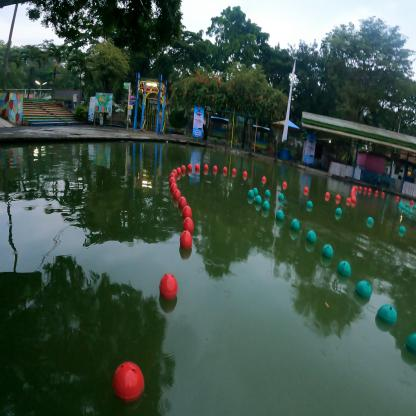green_buoy: (377, 300, 397, 326), (355, 278, 371, 298), (405, 331, 416, 356), (337, 260, 352, 278), (321, 242, 334, 258), (306, 229, 317, 244), (291, 218, 301, 232), (276, 209, 284, 221), (263, 200, 270, 211), (398, 225, 406, 233), (335, 207, 342, 216), (366, 216, 374, 223), (253, 186, 258, 197), (256, 195, 262, 204), (265, 190, 271, 198), (248, 190, 254, 198), (278, 192, 284, 200), (306, 200, 312, 208)
red_buoy: (111, 358, 146, 402), (158, 270, 178, 304), (180, 229, 193, 250), (183, 217, 194, 234), (182, 204, 192, 220), (178, 194, 187, 210), (173, 188, 181, 200), (170, 182, 178, 193), (169, 172, 176, 182), (169, 176, 176, 186), (172, 168, 178, 178), (351, 196, 357, 204), (195, 162, 200, 171), (177, 166, 182, 175), (181, 164, 186, 172), (188, 163, 192, 171), (325, 192, 330, 198), (336, 194, 341, 200), (346, 197, 351, 203), (212, 165, 218, 170), (304, 186, 309, 192), (204, 164, 208, 171), (224, 166, 228, 173), (243, 170, 247, 177), (262, 176, 267, 181), (232, 168, 236, 174), (283, 180, 287, 186), (350, 193, 354, 198), (399, 202, 403, 207), (402, 205, 406, 210), (410, 200, 414, 204), (405, 202, 409, 206), (405, 208, 409, 212), (363, 187, 367, 191), (368, 188, 372, 192), (351, 190, 355, 194), (353, 185, 356, 190), (381, 192, 385, 195), (396, 196, 400, 199), (409, 209, 413, 212), (355, 186, 358, 190), (352, 188, 355, 192), (375, 190, 378, 194), (359, 187, 362, 190), (414, 204, 415, 209)
